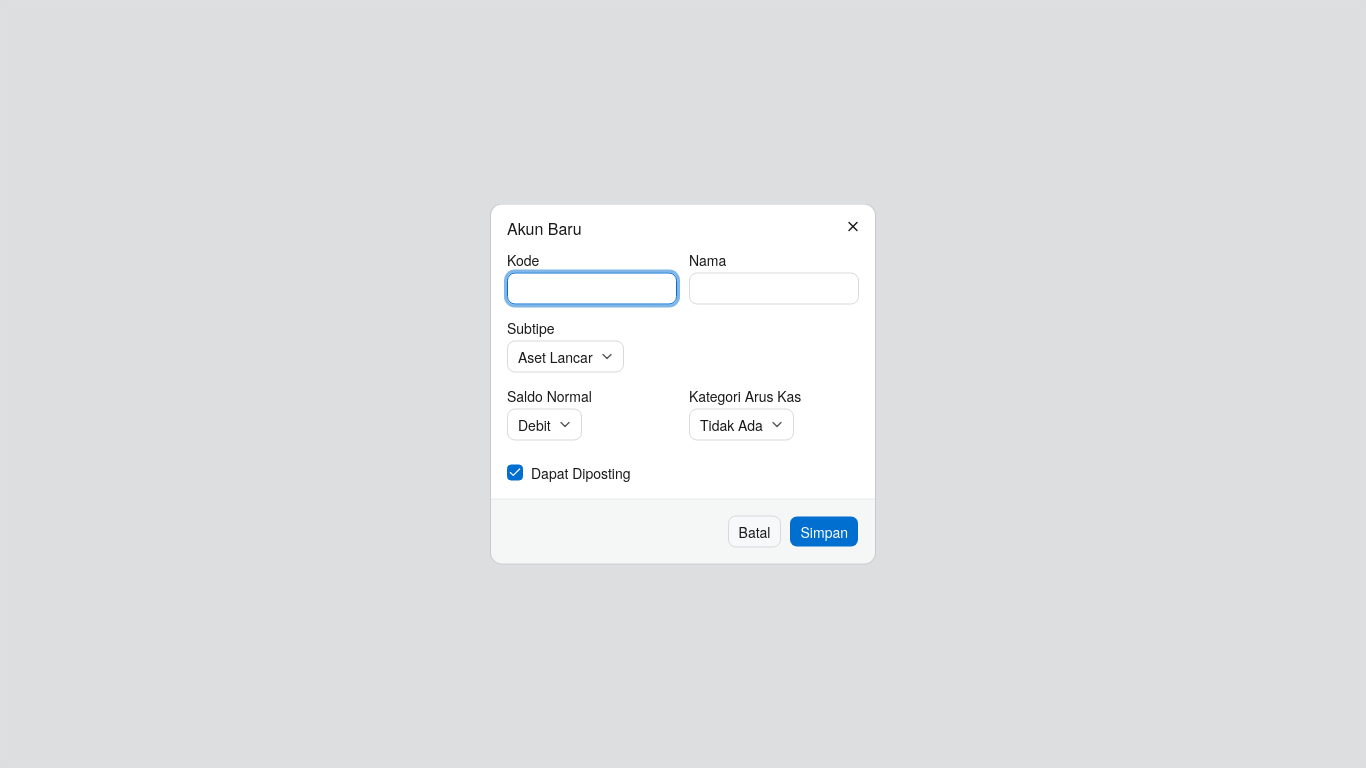
Scenario: shows a duplicate-code field error on 409
Step 1. Type "1-1000" into the field labelled "Kode" → (592, 288), box [507,272,677,304]
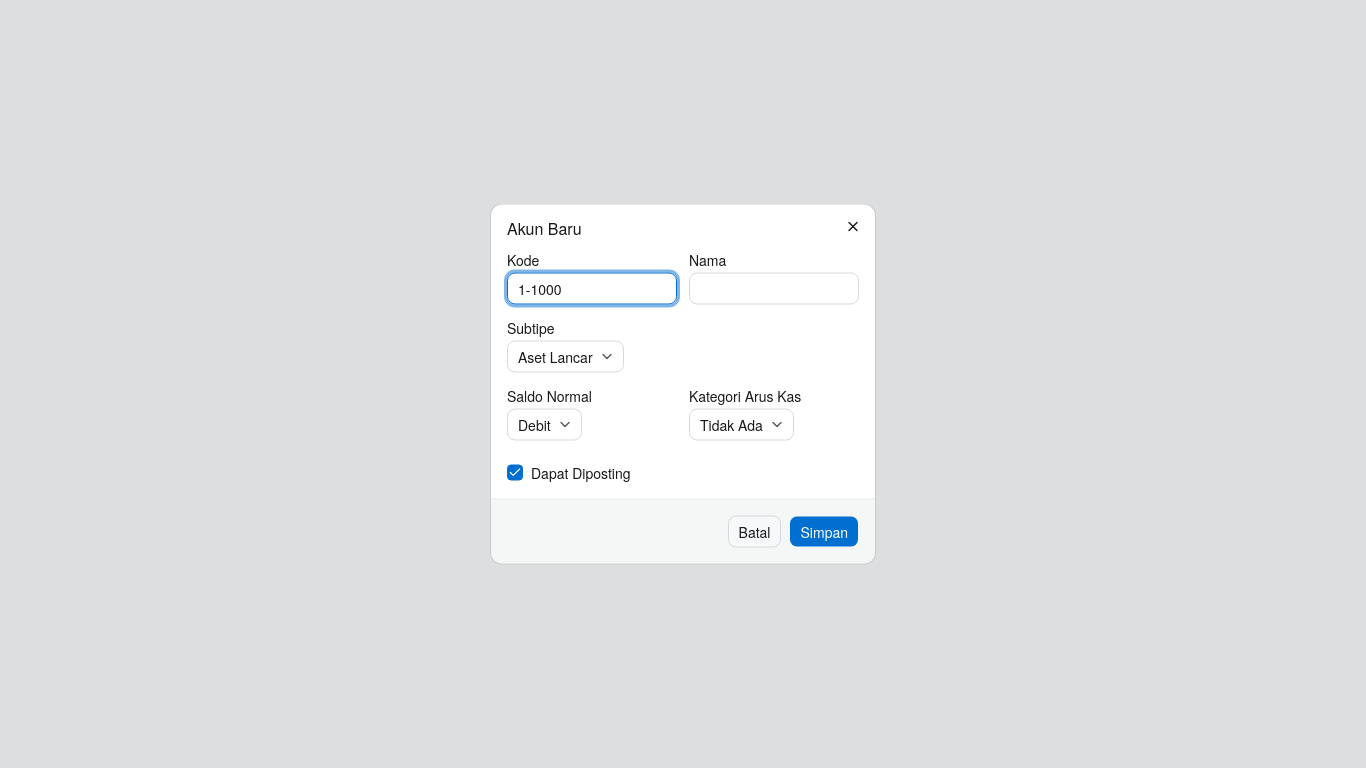
Step 2. Type "Kas" into the field labelled "Nama" → (774, 288), box [689,272,859,304]
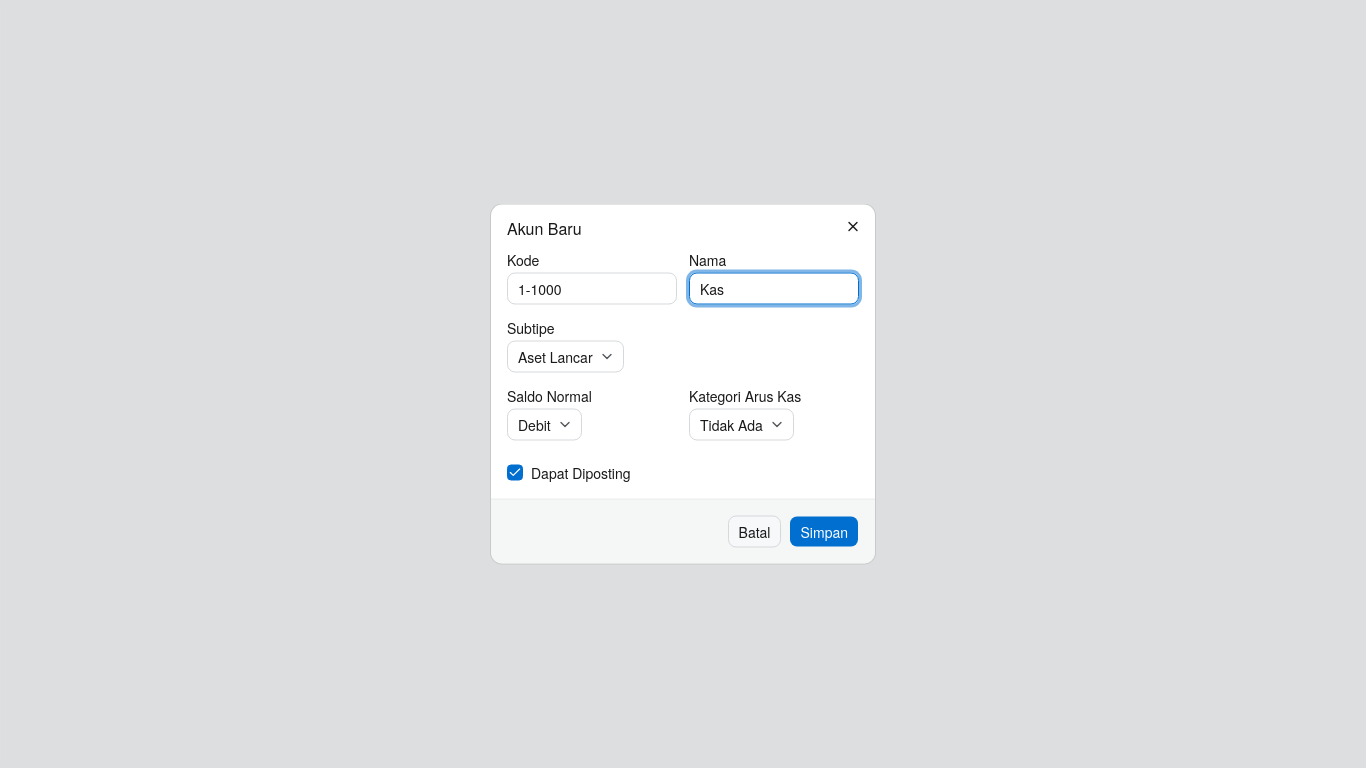
Step 3. Click the dropdown named "subtipe" → (565, 356), box [507,340,624,372]
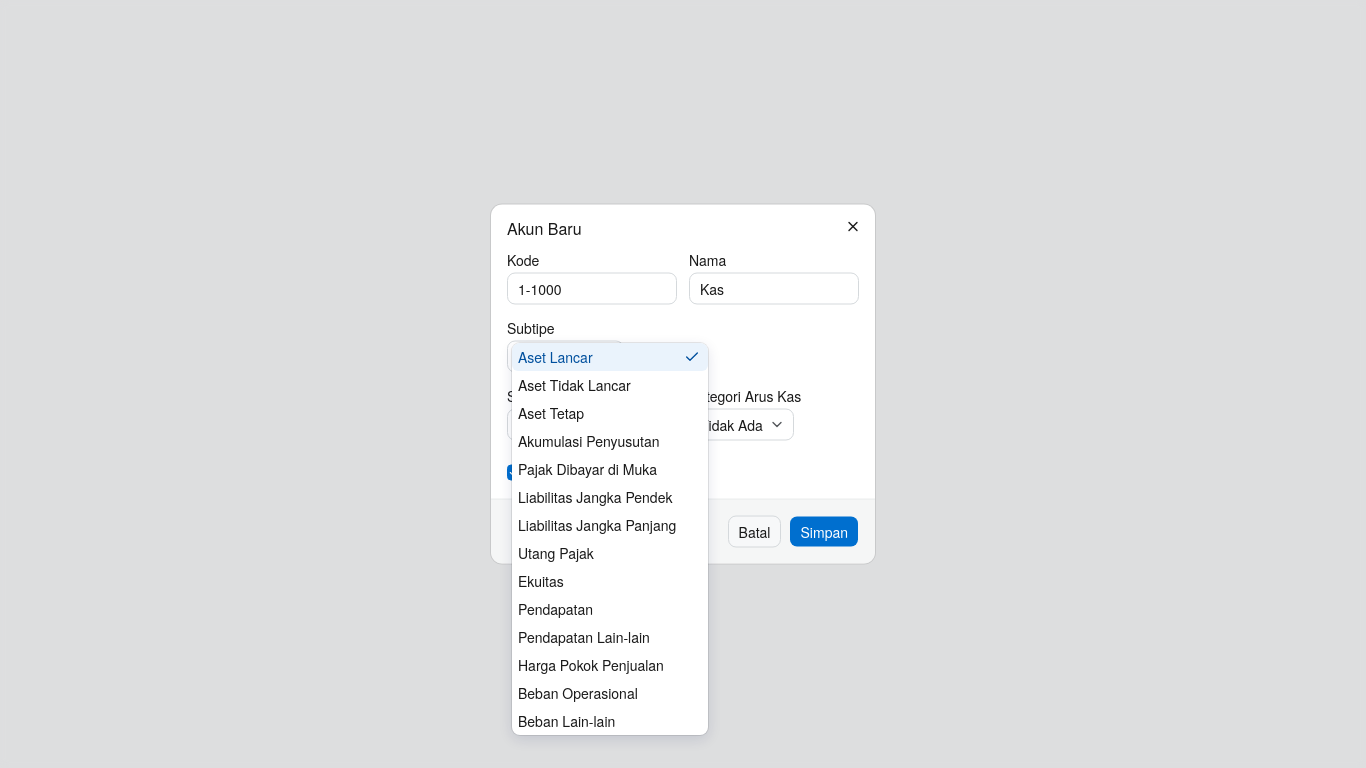
Step 4. Click the option "Aset Lancar" → (610, 356), box [512,342,708,370]
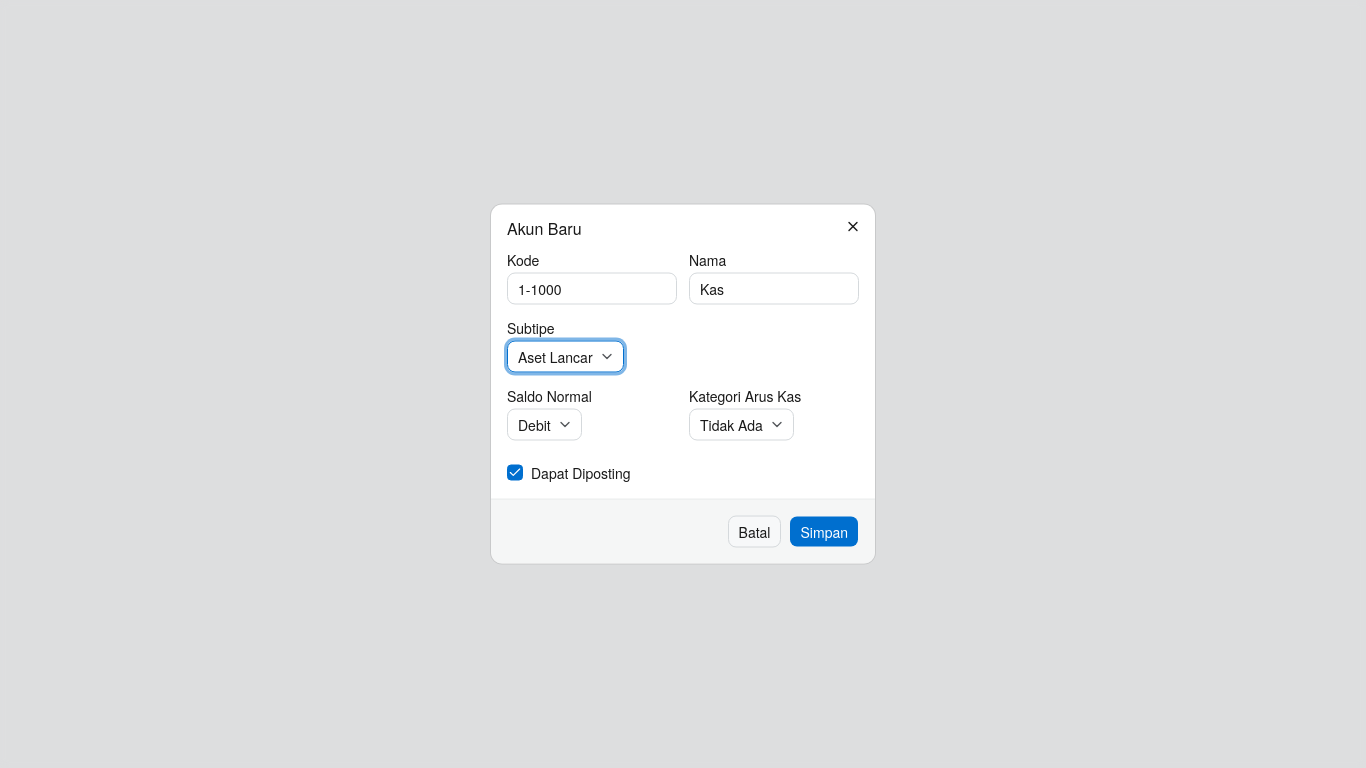
Step 5. Click the button "Simpan" → (824, 532), box [790,516,859,548]
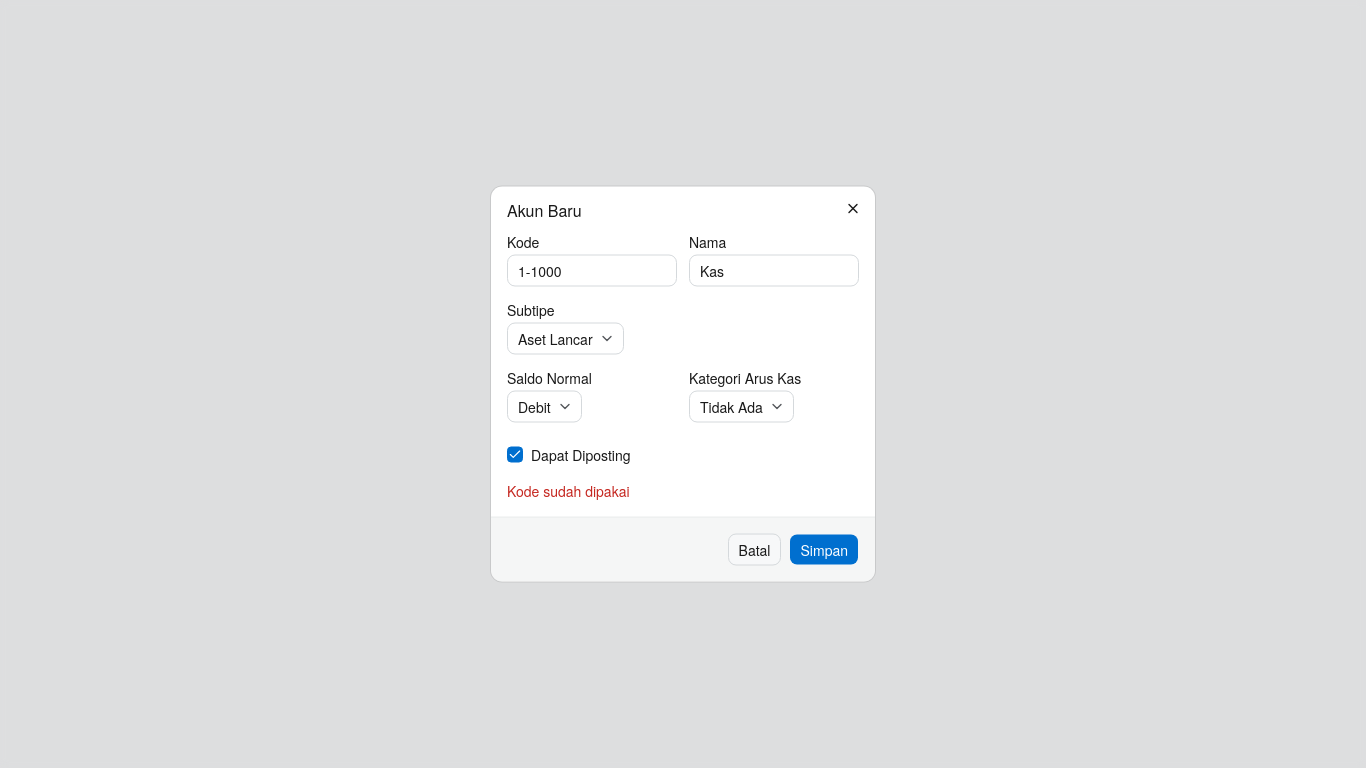
Expected: the text "Kode sudah dipakai" is shown, [507,480,630,500]
